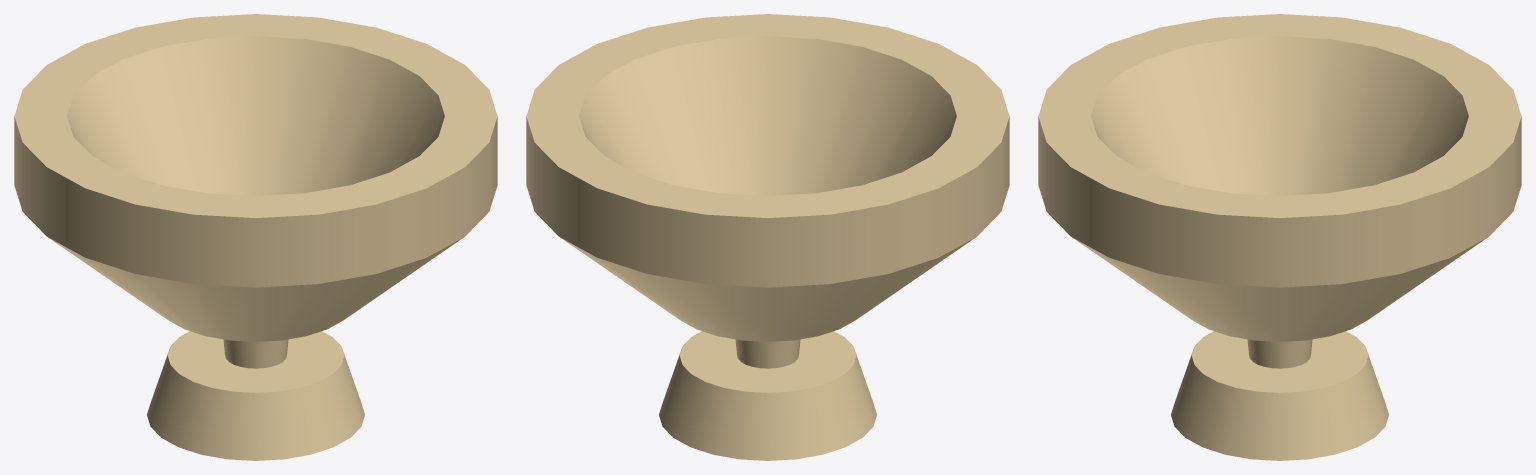
The model's file is detailBowl.glb.
The picture shows the model from 3 angles, left to right: view 1: azimuth 30°, elevation 25°; view 2: azimuth 150°, elevation 25°; view 3: azimuth 270°, elevation 25°; orthographic projection.
Parts seen in each view (by area): view 1: detailBowl(Clone); view 2: detailBowl(Clone); view 3: detailBowl(Clone).
Boxes of the visible parts, x1,y1,x2,y2 form: detailBowl(Clone): [14, 14, 497, 460]; detailBowl(Clone): [526, 14, 1009, 460]; detailBowl(Clone): [1038, 14, 1521, 460].
Bounding box in the file's own units: 0.124 × 0.0846 × 0.124.
